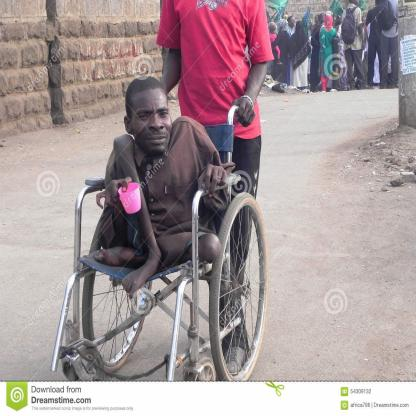wheelchair: (55, 74, 265, 385)
